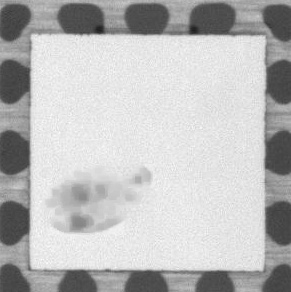DIE_INK: (42, 161, 155, 236)
